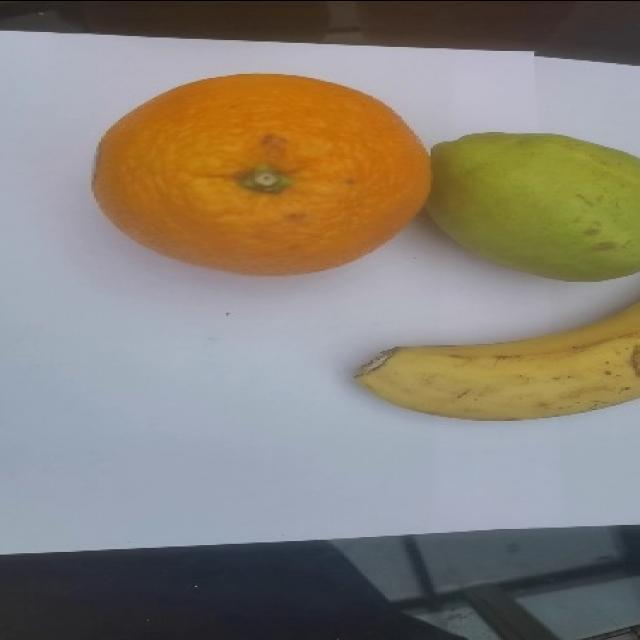Banana: (352, 298, 639, 421)
Orange: (90, 71, 432, 276)
